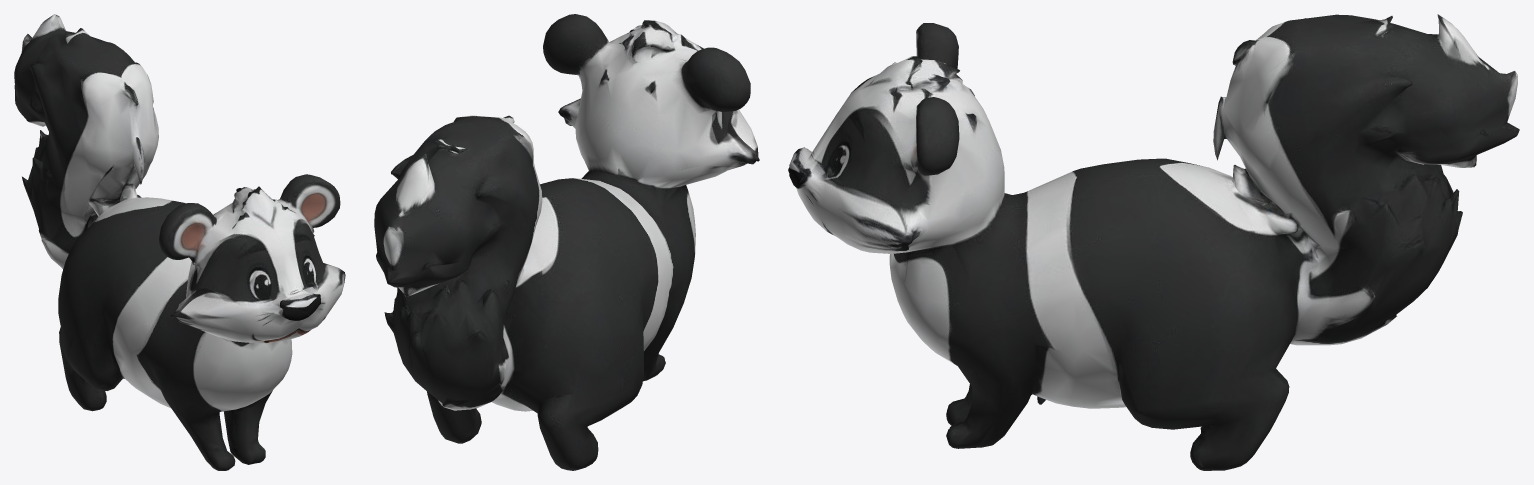
The model's file is skunk.glb.
3 renders of one model, left to right at view 1: azimuth 30°, elevation 25°; view 2: azimuth 150°, elevation 25°; view 3: azimuth 270°, elevation 25°, orthographic. The views are drawn at different scales.
Visible parts, largest first — view 1: Mesh_0; view 2: Mesh_0; view 3: Mesh_0.
Boxes of the visible parts, x1,y1,x2,y2 form: Mesh_0: [14, 14, 345, 470]; Mesh_0: [374, 14, 759, 470]; Mesh_0: [788, 14, 1519, 470].
Bounding box in the file's own units: 0.7366 × 1.27 × 2.
1 material, 1 textured.
